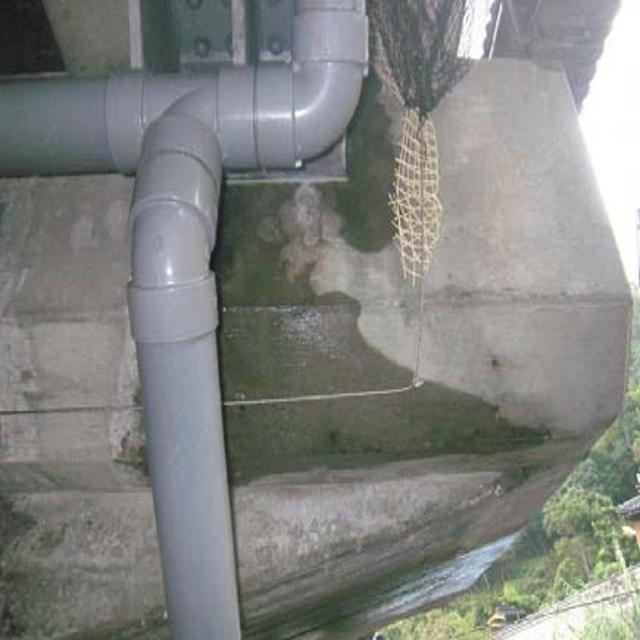leakage: (201, 152, 546, 472)
